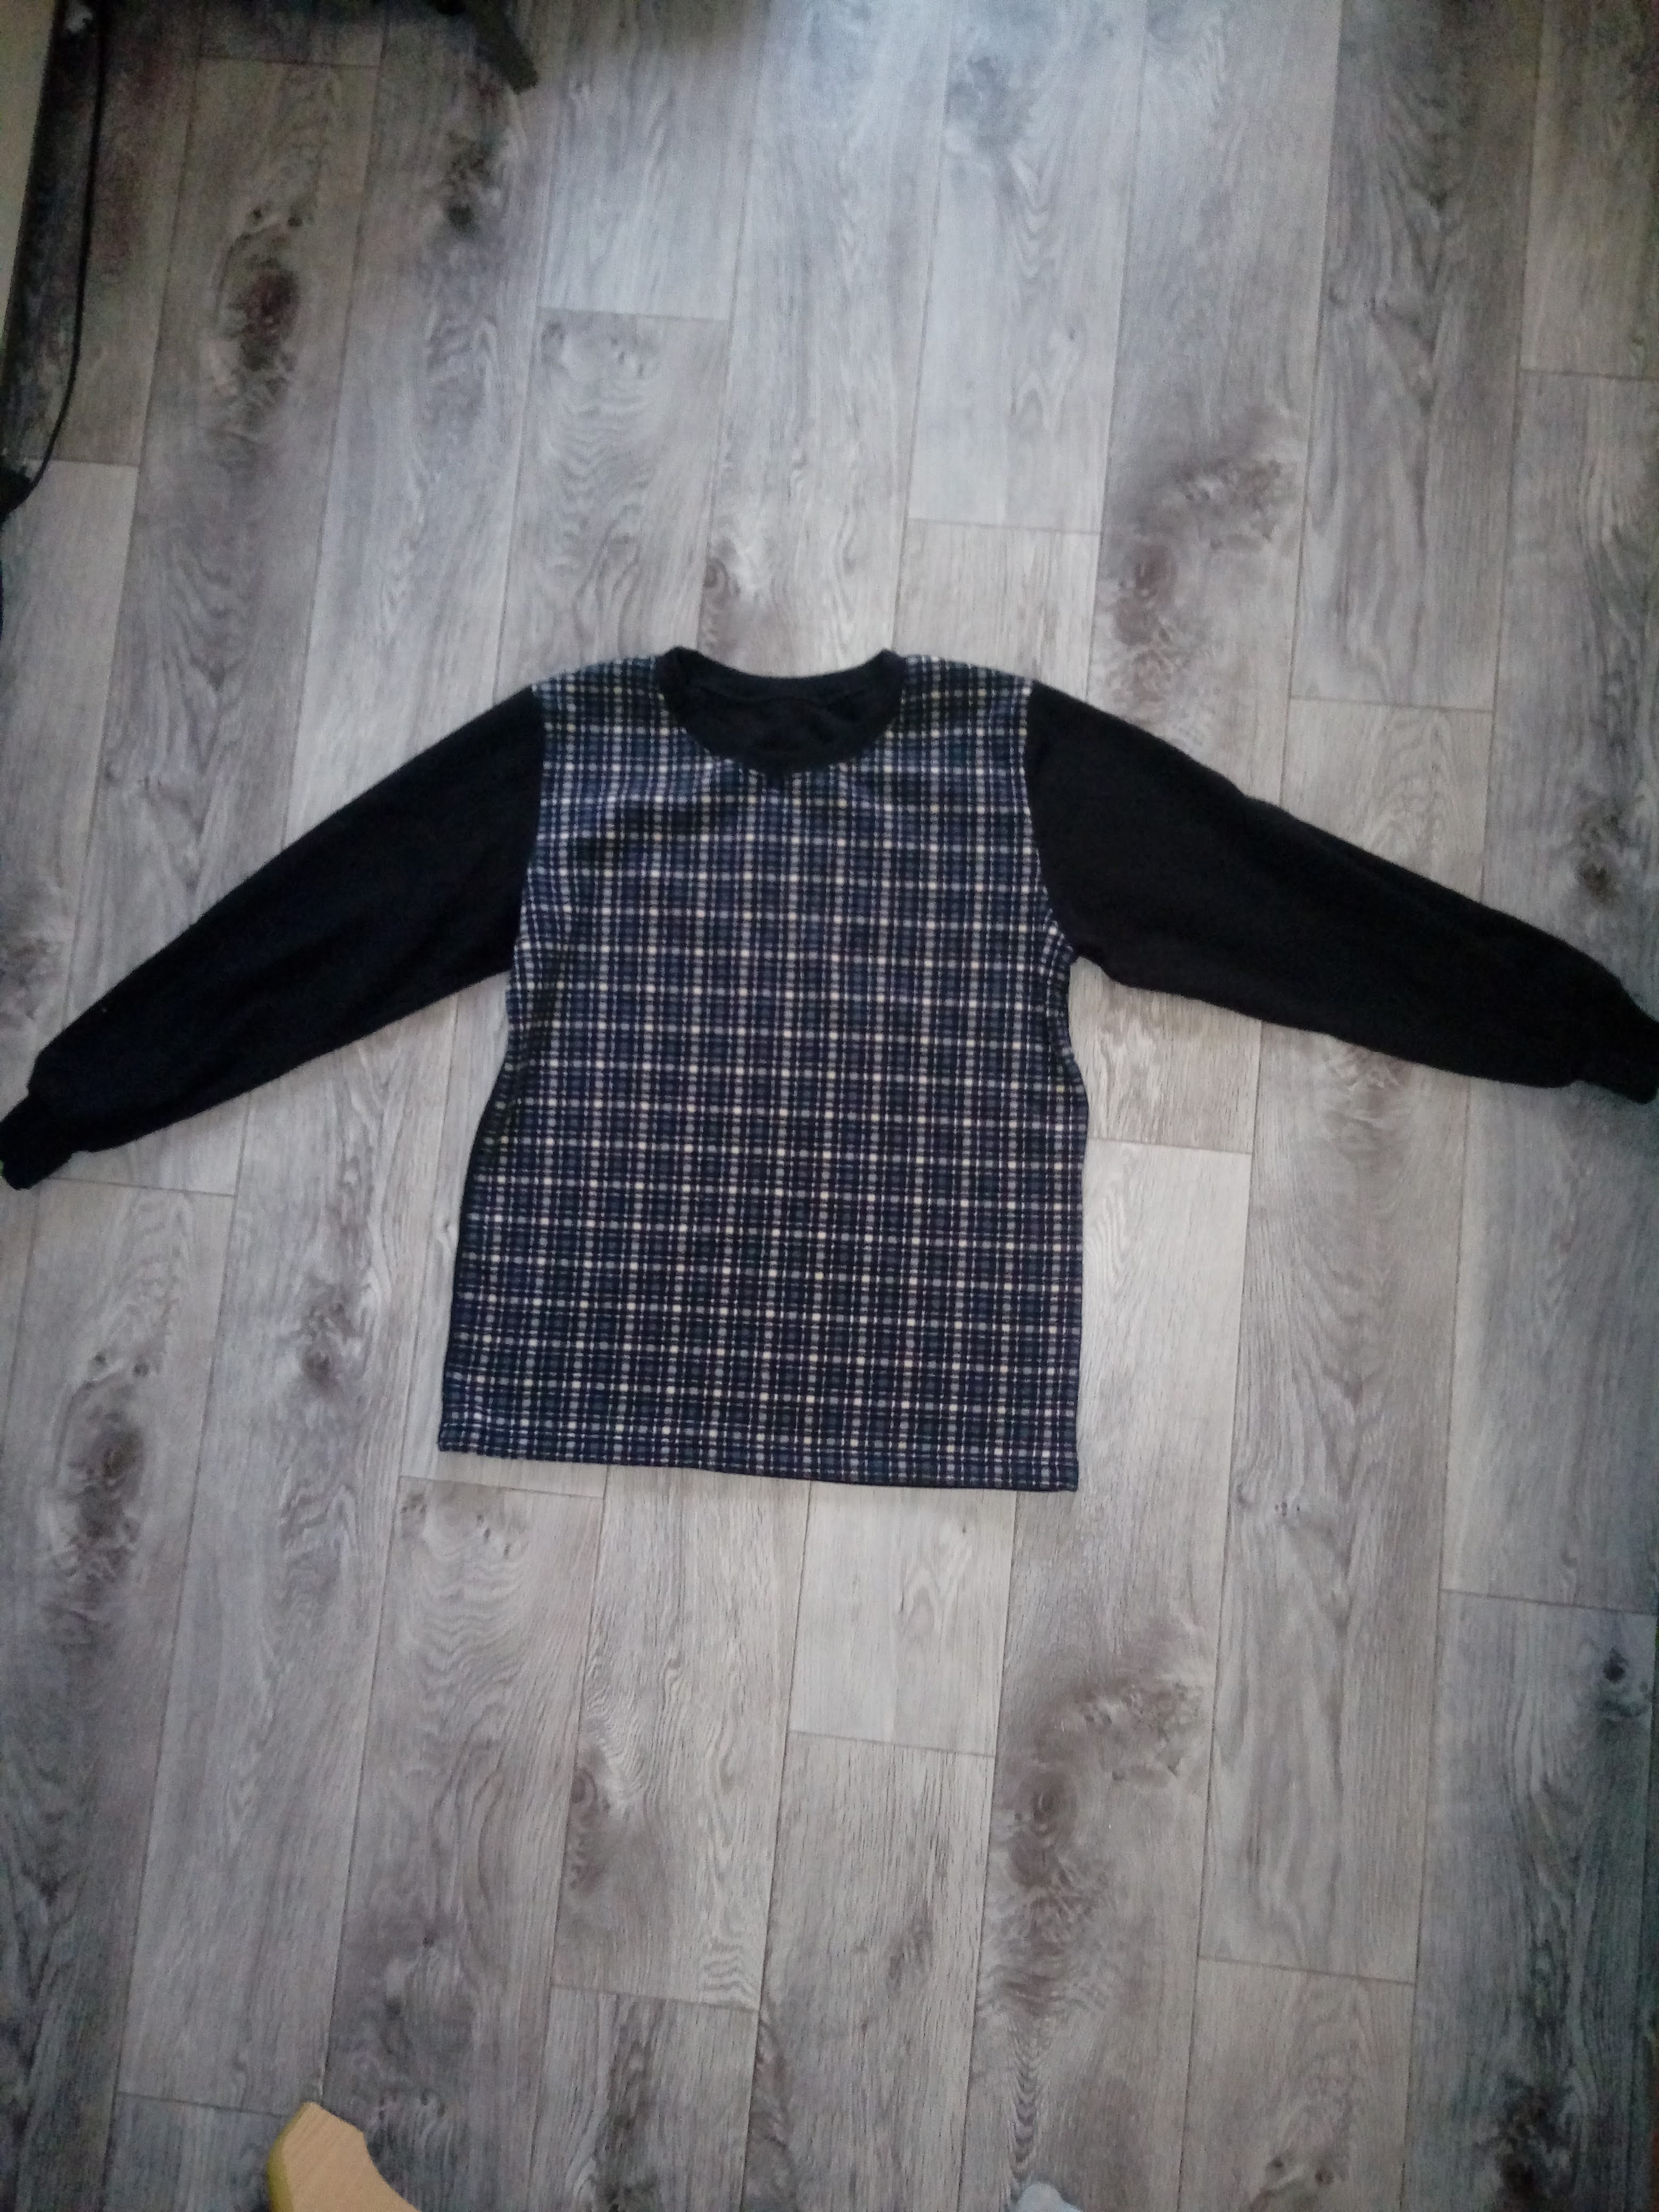clothes: (10, 613, 1640, 1529)
